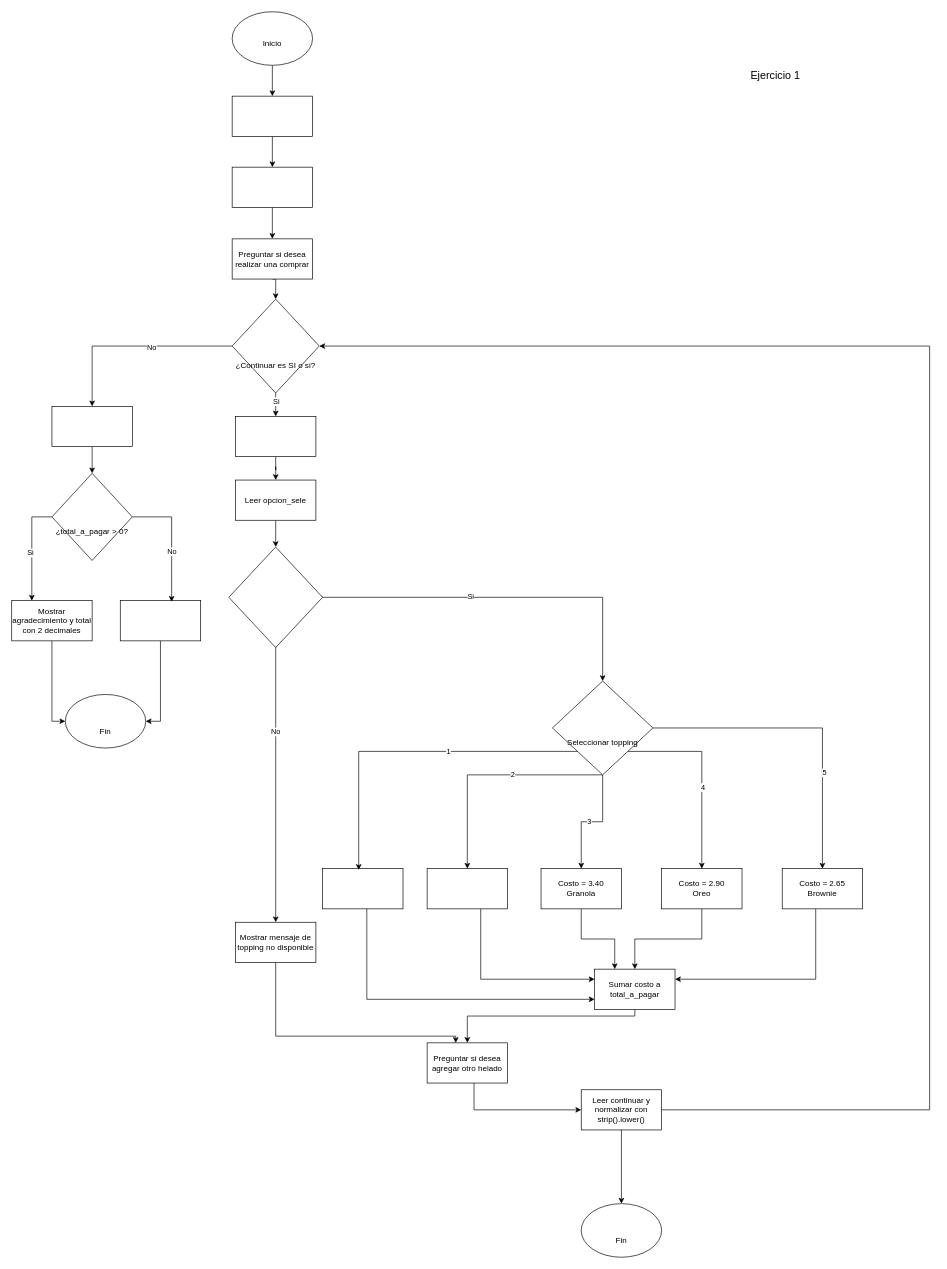
This 947x1269 diagram has some shape labels left out. Here are the shapes that lost their labels. From the top down, the centre of each, then its label:
(272,115): Inicializar precios y total_a_pagar = 0.0
(272,186): Mostras bienvenida
(91,426): Mostrar factura
(275,436): Mostrar menú de toppings
(275,597): ¿opción válida?
(160,620): Mostrar que no se realizó ningún pedido
(362,888): Costo = 1.90 sin topping
(467,888): Costo = 2.40 Frutas
